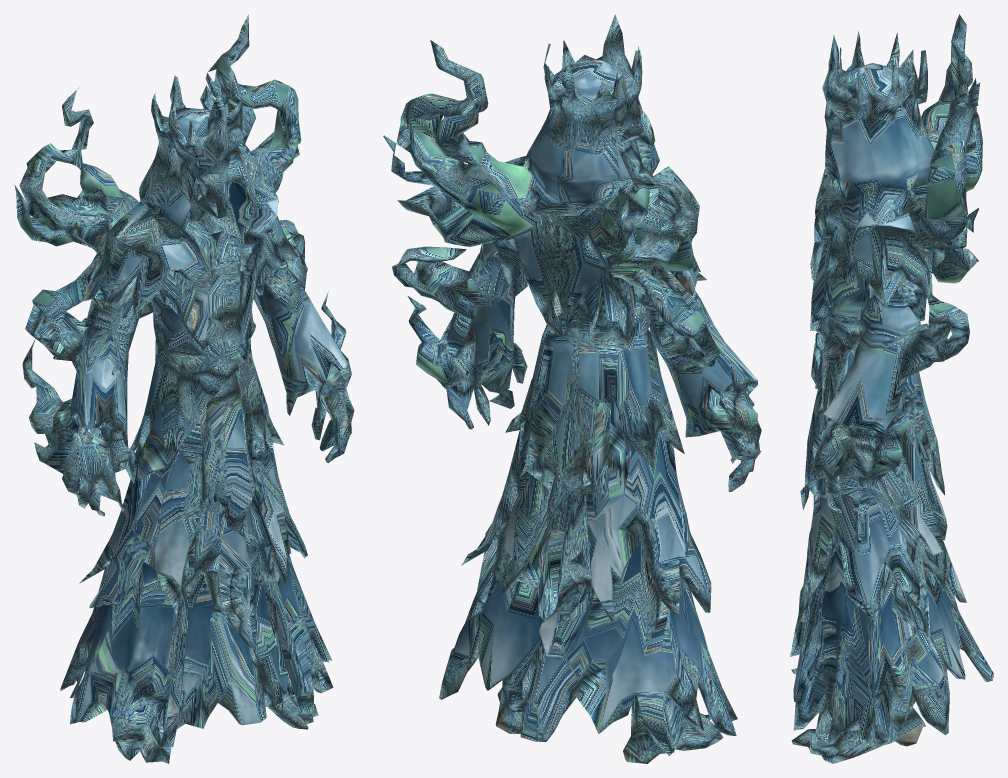
File: hoarfrost_revenant.glb
3 views of the same model, side by side, from view 1: azimuth 30°, elevation 25°; view 2: azimuth 150°, elevation 25°; view 3: azimuth 270°, elevation 25° (orthographic). The views are drawn at different scales.
Visible parts, largest first — view 1: Mesh_0; view 2: Mesh_0; view 3: Mesh_0.
Boxes of the visible parts, x1=… form: Mesh_0: x1=14, y1=14, x2=354, y2=763; Mesh_0: x1=383, y1=14, x2=761, y2=763; Mesh_0: x1=790, y1=14, x2=993, y2=763.
Size of the model in its own units: 0.9489 by 1.87 by 0.5069.
1 material, 1 textured.
